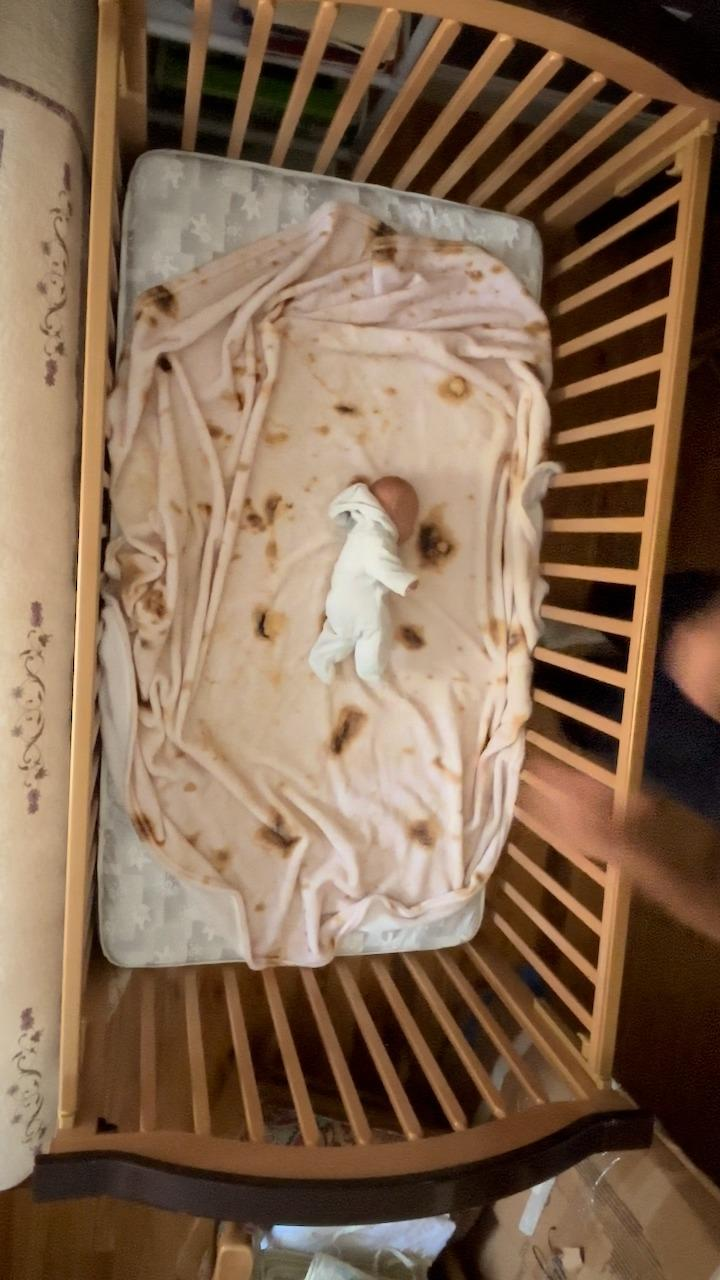baby: (301, 472, 430, 700)
